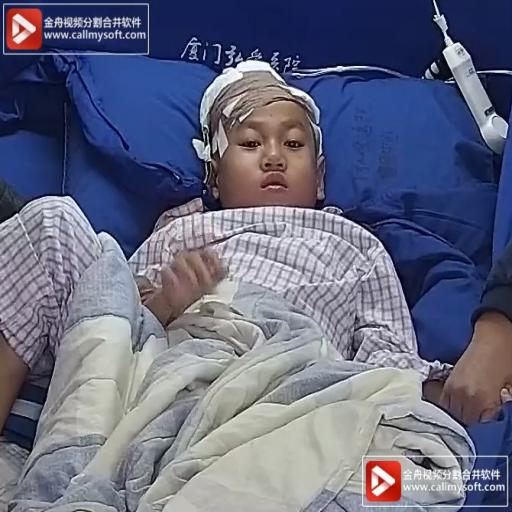Netural: (189, 42, 357, 245)
